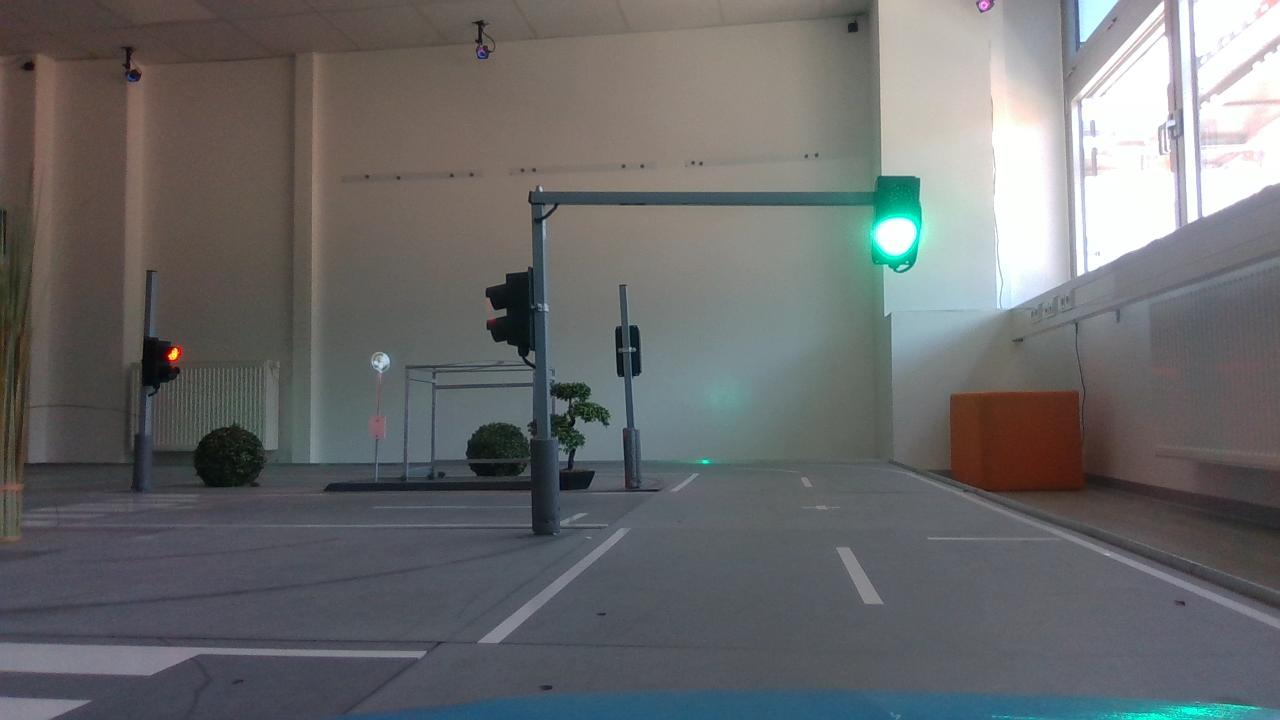traffic_light_green: (868, 156, 933, 288)
